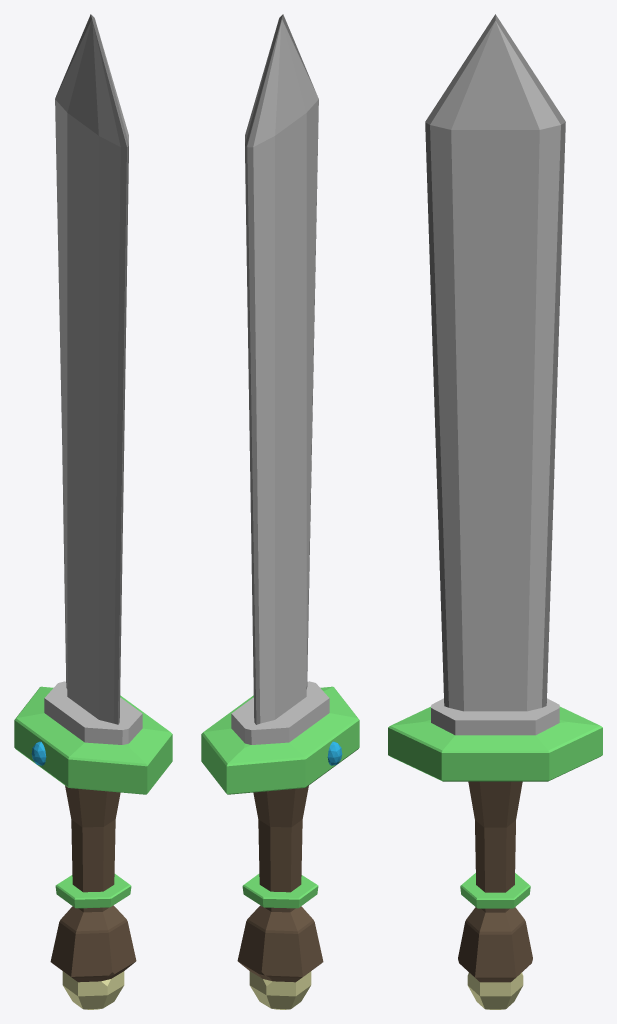
Rendered from Sword.fbx.
3 views of the same model, side by side, from view 1: azimuth 30°, elevation 25°; view 2: azimuth 150°, elevation 25°; view 3: azimuth 270°, elevation 25° (orthographic).
Visible parts, largest first — view 1: Cylinder; view 2: Cylinder; view 3: Cylinder.
Part boxes in pixels (x1=…): Cylinder: x1=14, y1=14, x2=172, y2=1009; Cylinder: x1=201, y1=14, x2=359, y2=1009; Cylinder: x1=388, y1=14, x2=602, y2=1009.
Size of the model in its own units: 110 by 932 by 183.
